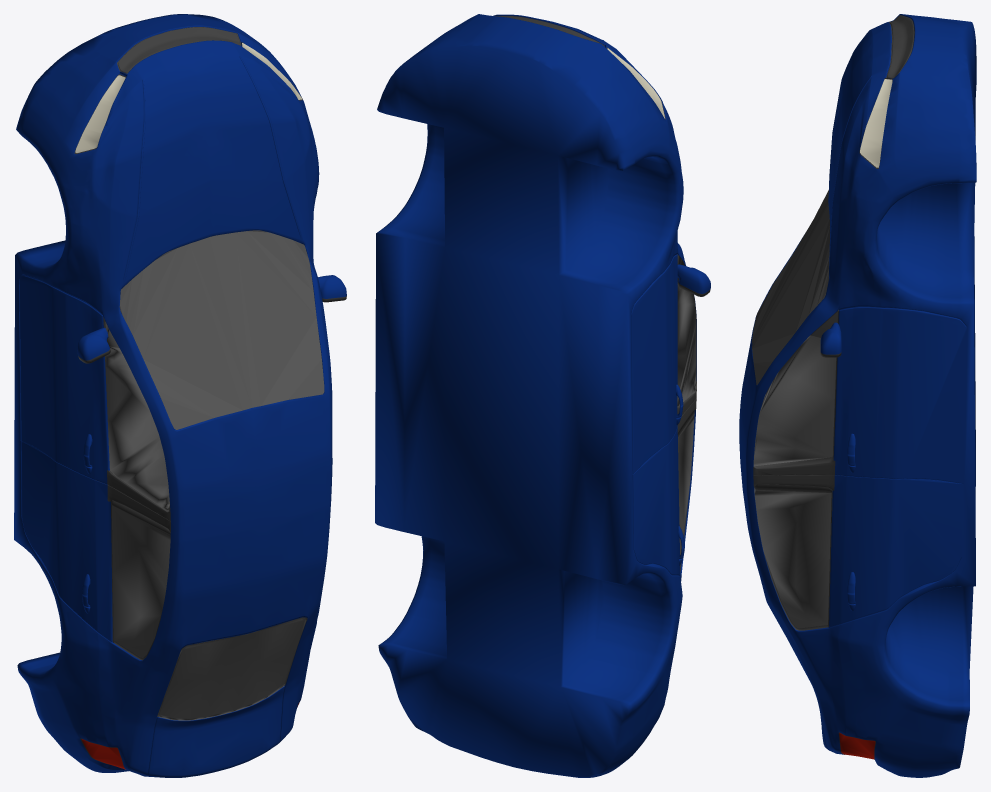
Rendered from sedan_chassis_vis.gltf.
The picture shows the model from 3 angles, left to right: view 1: azimuth 30°, elevation 25°; view 2: azimuth 150°, elevation 25°; view 3: azimuth 270°, elevation 25°; orthographic projection. The views are drawn at different scales.
Parts seen in each view (by area): view 1: sedan_chassis_visualization_Plane.002_sedan_chassis_visualiz, sedan_chassis_visualization_Plane.002_sedan_chassis_visuali. (×4); view 2: sedan_chassis_visualization_Plane.002_sedan_chassis_visualiz, sedan_chassis_visualization_Plane.002_sedan_chassis_visuali. (×2); view 3: sedan_chassis_visualization_Plane.002_sedan_chassis_visualiz, sedan_chassis_visualization_Plane.002_sedan_chassis_visuali. (×4).
Boxes of the visible parts, x1,y1,x2,y2 form: sedan_chassis_visualization_Plane.002_sedan_chassis_visualiz: [14, 14, 346, 777]; sedan_chassis_visualization_Plane.002_sedan_chassis_visuali. (×4): [74, 27, 346, 769]; sedan_chassis_visualization_Plane.002_sedan_chassis_visualiz: [375, 14, 710, 777]; sedan_chassis_visualization_Plane.002_sedan_chassis_visuali. (×2): [495, 16, 710, 571]; sedan_chassis_visualization_Plane.002_sedan_chassis_visualiz: [739, 14, 976, 777]; sedan_chassis_visualization_Plane.002_sedan_chassis_visuali. (×4): [752, 15, 914, 759].
Bounding box in the file's own units: 1.85 × 4.89 × 1.47.
